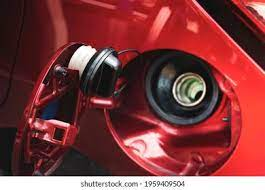open: (116, 44, 239, 164)
